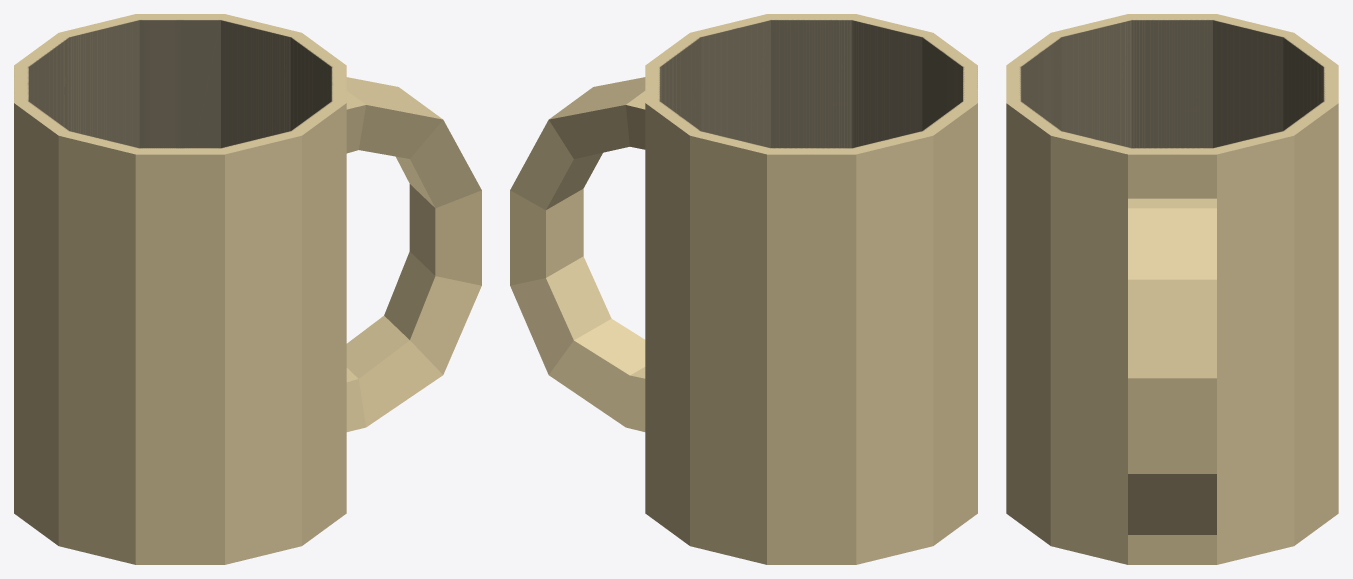
The model's file is Mug_Bege.fbx.
3 views of the same model, side by side, from view 1: azimuth 30°, elevation 25°; view 2: azimuth 150°, elevation 25°; view 3: azimuth 270°, elevation 25° (orthographic).
Visible parts, largest first — view 1: Mug.001; view 2: Mug.001; view 3: Mug.001.
Boxes of the visible parts, bbox=[...] form: Mug.001: bbox=[14, 14, 481, 564]; Mug.001: bbox=[510, 14, 977, 564]; Mug.001: bbox=[1006, 14, 1338, 564].
Size of the model in its own units: 10.79 by 10 by 7.34.
